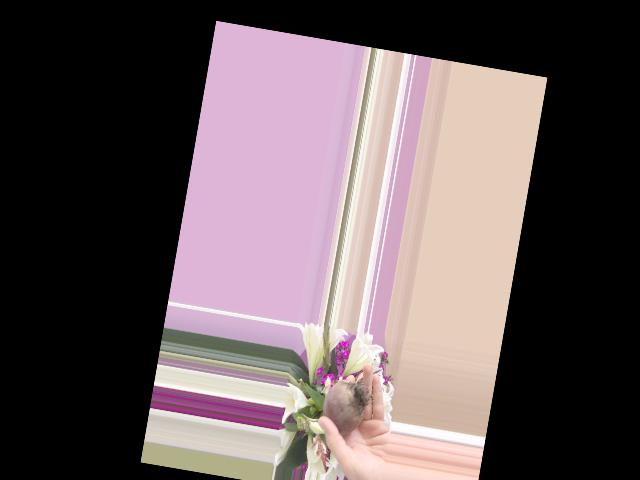beet: (299, 371, 370, 437)
